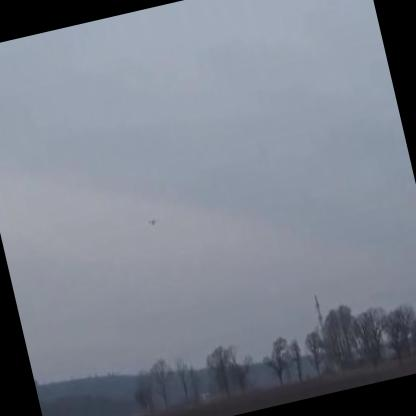plane: (146, 215, 161, 231)
